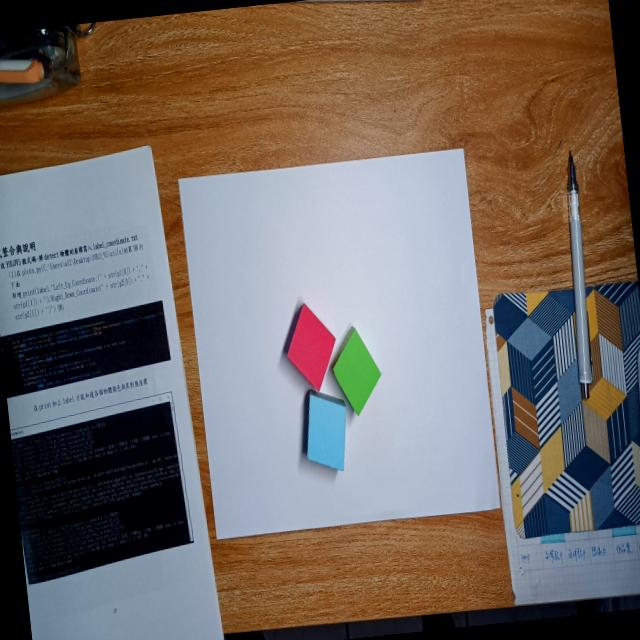BLUE: (307, 389, 346, 471)
GREEN: (331, 325, 382, 416)
RED: (286, 302, 335, 391)
